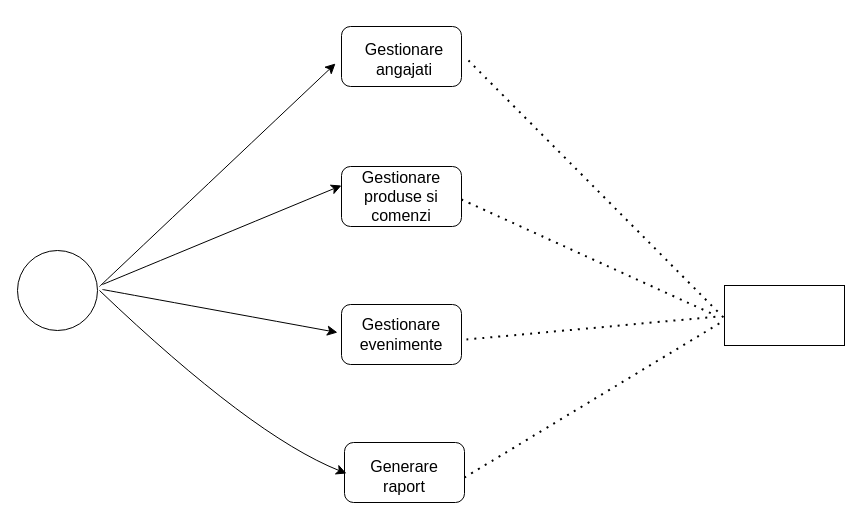
Image size: 862x529. Some labels were removed from this diagram. The shapes that lost their labels are listed below. From the top down, each one's centre as x and y in pixels, then its label:
At (x=57, y=290): "Utilizator".
At (x=784, y=315): "Fisiere CSV".
